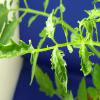Tomato leaf mosaic virus: (48, 47, 71, 94), (0, 40, 38, 63), (75, 43, 95, 79), (43, 7, 57, 40)
